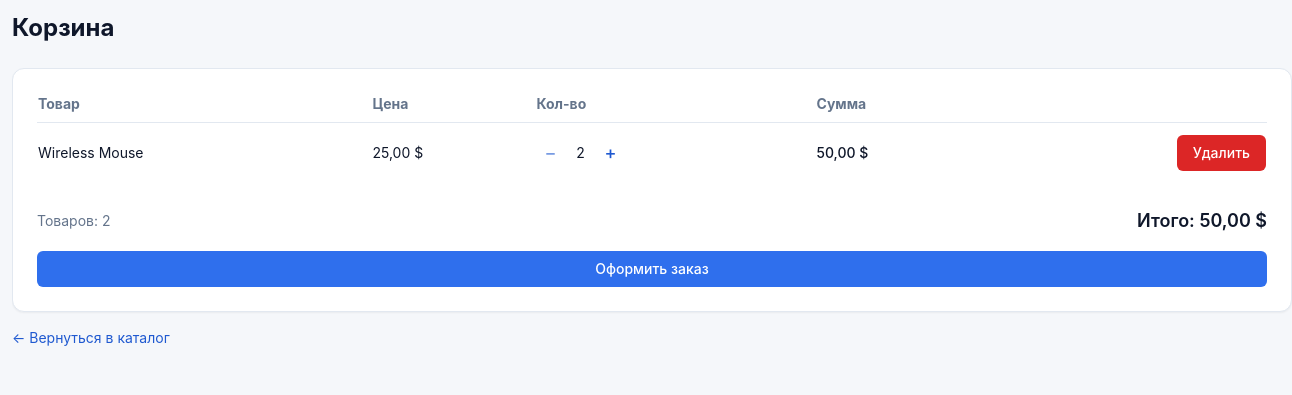
Test: CartPage › shows the server message when checkout fails
Click the button "Оформить заказ": (652, 269) x1=37 y1=251 x2=1267 y2=287
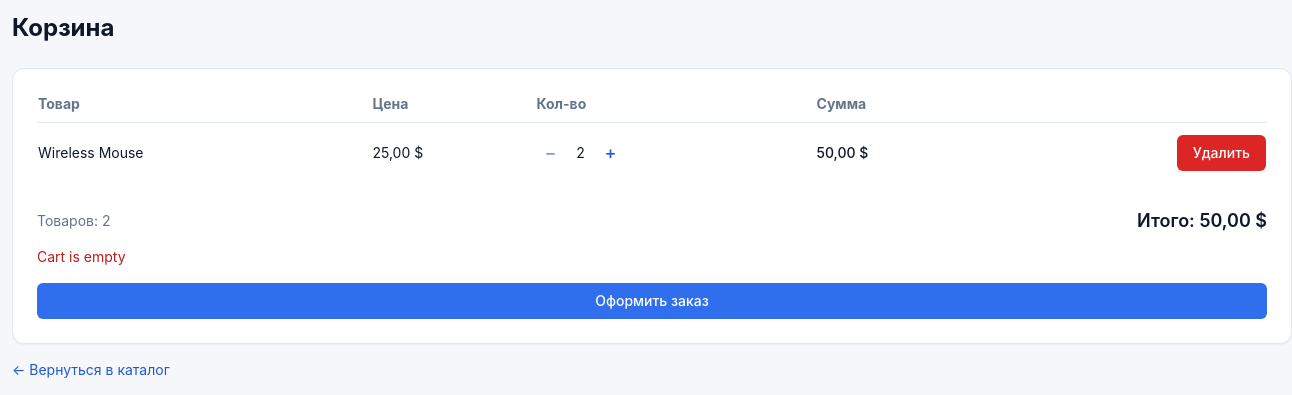
Check: the message reads "Cart is empty", box x1=37 y1=248 x2=126 y2=265
